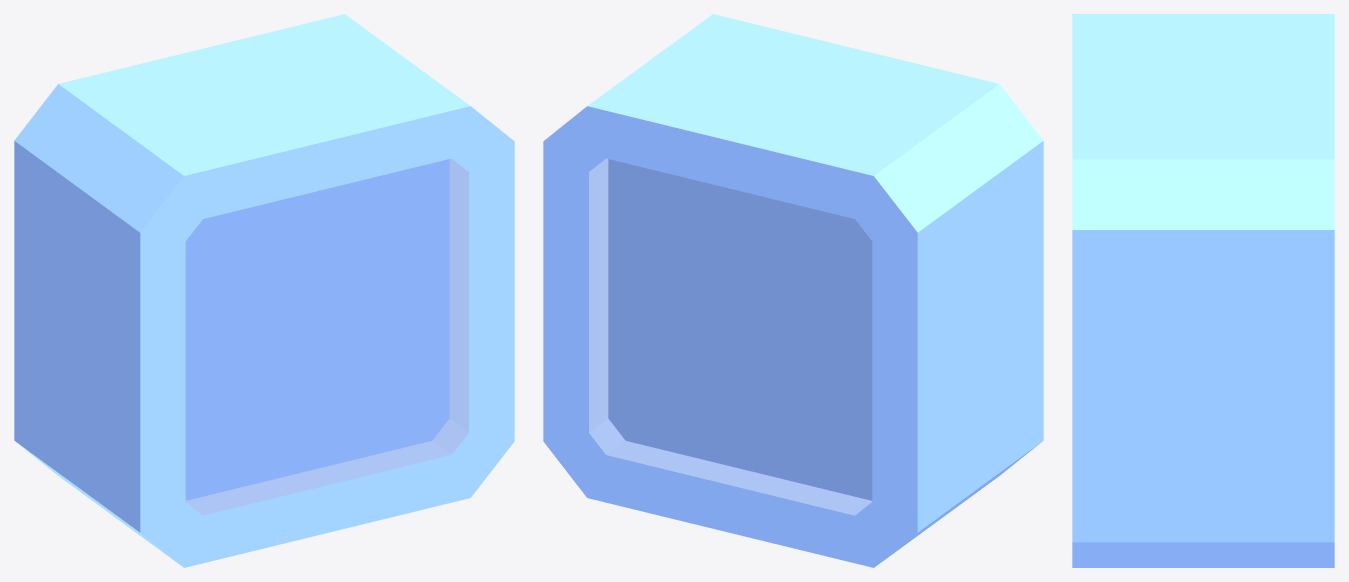
The model's file is weapon_drop.glb.
The picture shows the model from 3 angles, left to right: view 1: azimuth 30°, elevation 25°; view 2: azimuth 150°, elevation 25°; view 3: azimuth 270°, elevation 25°; orthographic projection. The views are drawn at different scales.
Visible parts, largest first — view 1: Cube; view 2: Cube; view 3: Cube.
Boxes of the visible parts, left/top/right/bottom form: Cube: left=14, top=14, right=514, bottom=567; Cube: left=543, top=14, right=1043, bottom=567; Cube: left=1072, top=14, right=1334, bottom=567.
Bounding box in the file's own units: 0.4263 × 0.4263 × 0.2482.
